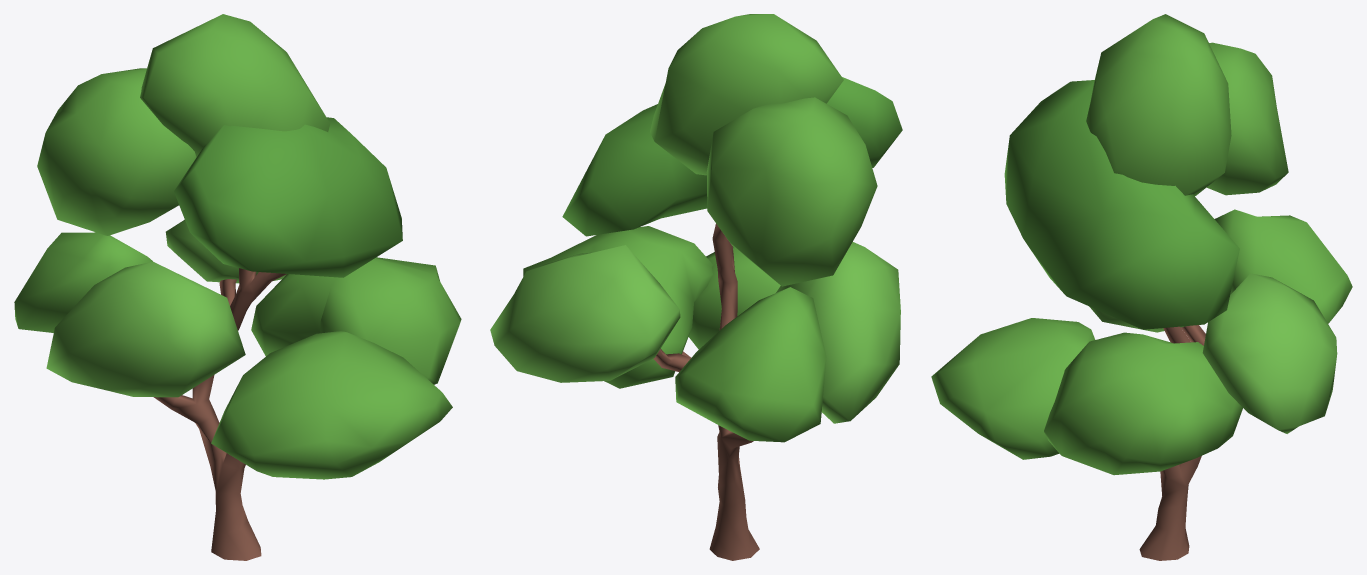
The model's file is tree_016.glb.
3 views of the same model, side by side, from view 1: azimuth 30°, elevation 25°; view 2: azimuth 150°, elevation 25°; view 3: azimuth 270°, elevation 25° (orthographic). The views are drawn at different scales.
Visible parts, largest first — view 1: tree_016; view 2: tree_016; view 3: tree_016.
Part boxes in pixels (<box>): tree_016: <box>14,14,461,560</box>; tree_016: <box>490,14,902,560</box>; tree_016: <box>931,14,1352,560</box>.
Bounding box in the file's own units: 9.44 × 13.09 × 9.67.
Materials: 1 (1 with a texture image).
